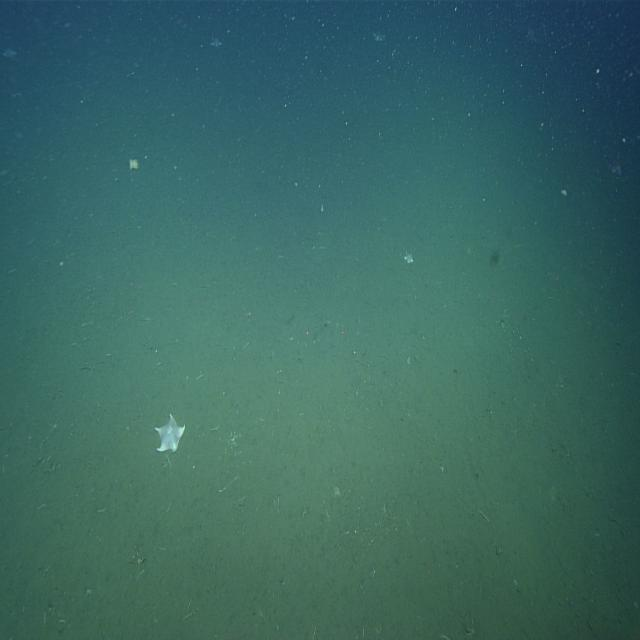Brittle Star: (130, 545, 149, 577)
Not Brittle Star: (152, 410, 186, 456), (604, 151, 626, 180), (208, 34, 224, 51)
